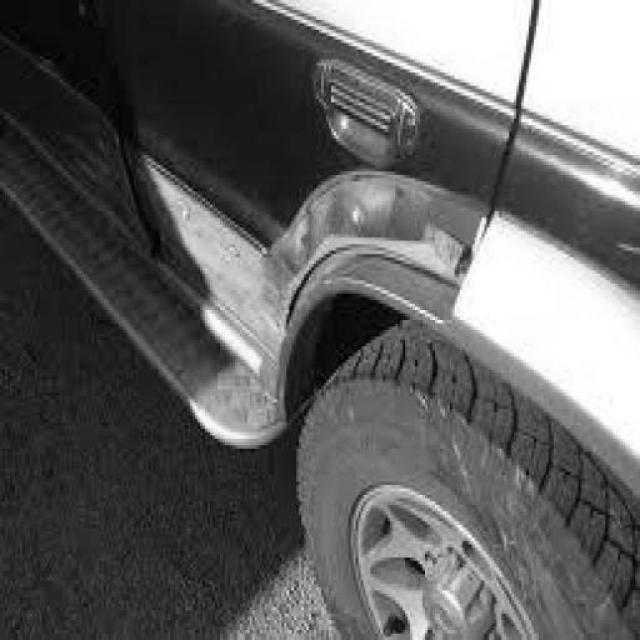scratch: (61, 128, 511, 407)
